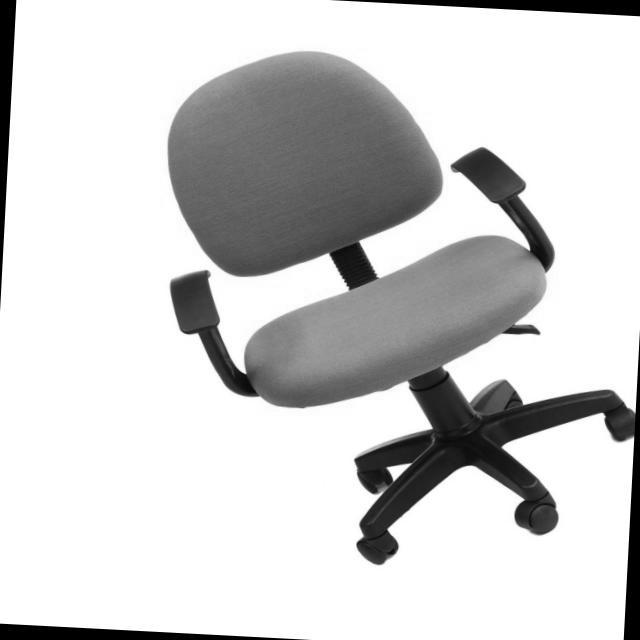chair: (137, 41, 640, 586)
